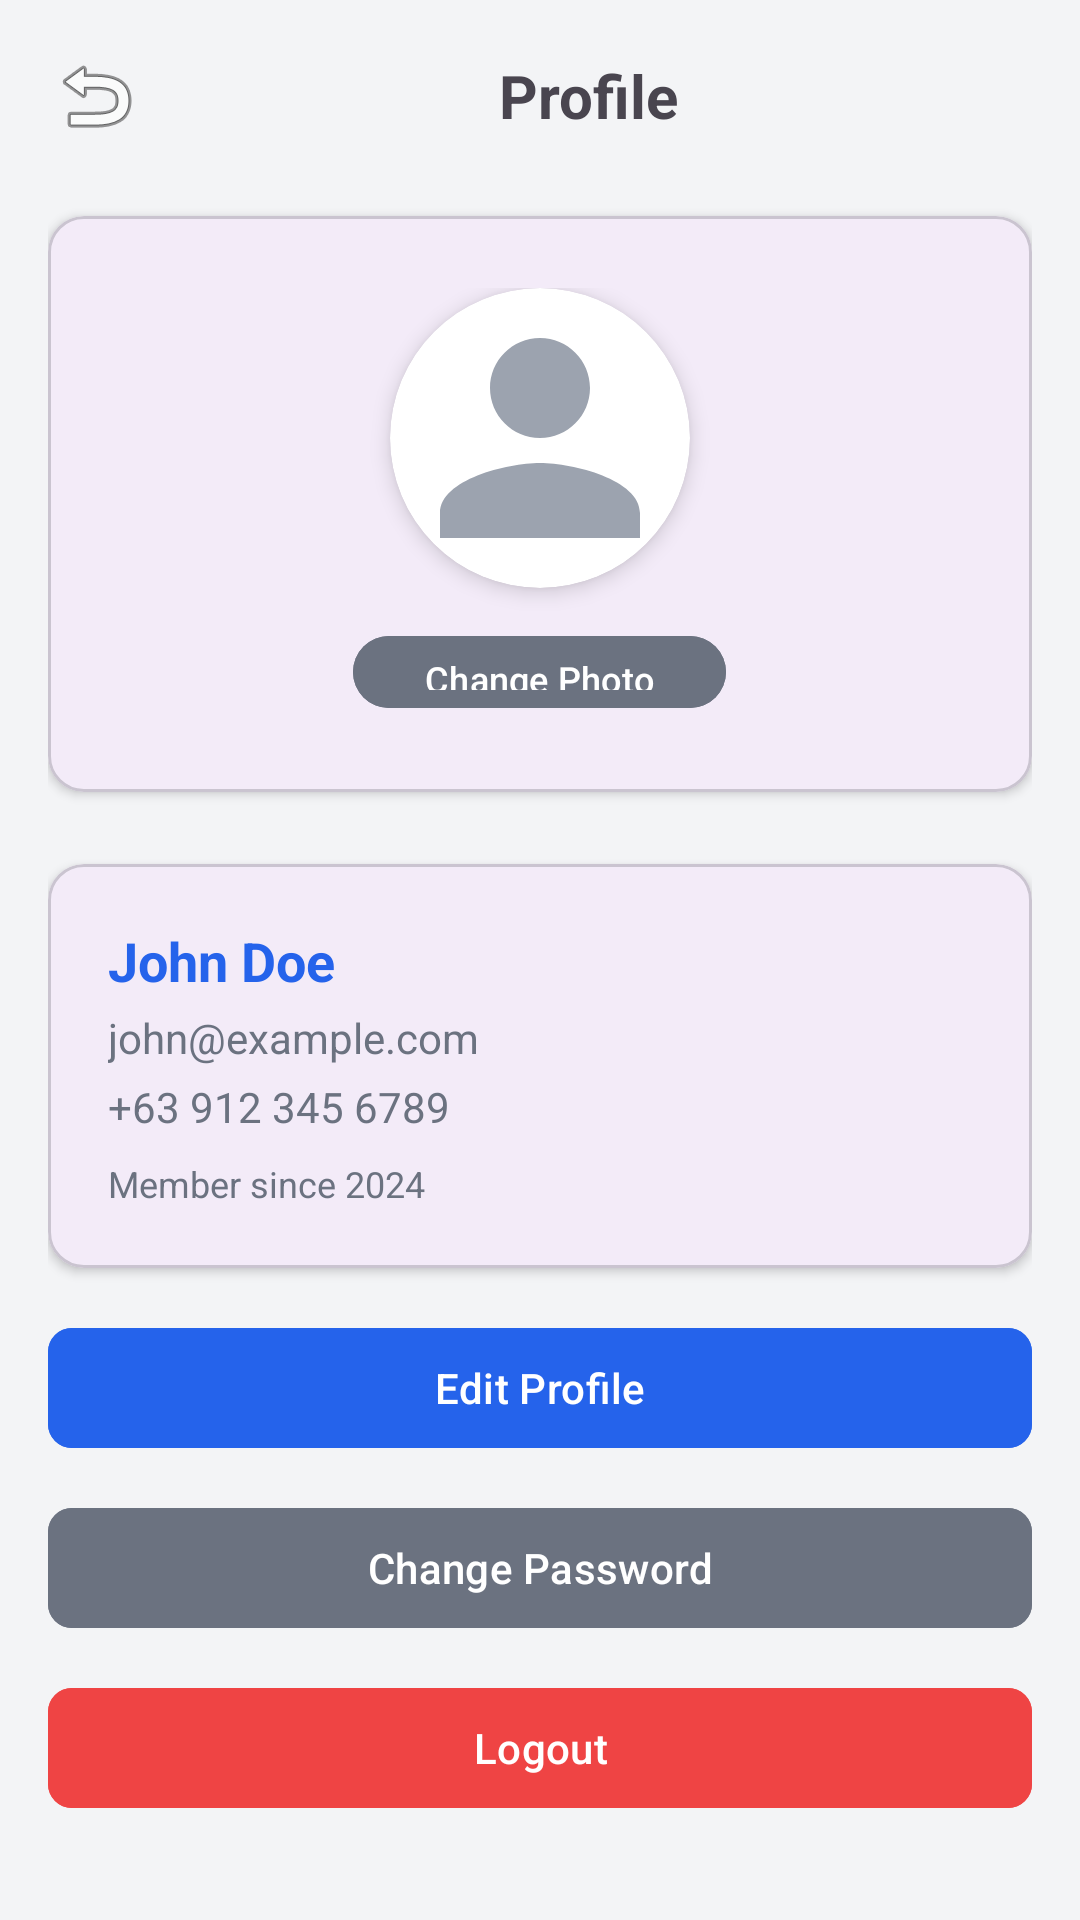

Icon click points for this 1080px x 1920px phone screenshot, format point (x, y):
Back: point (97, 96)
